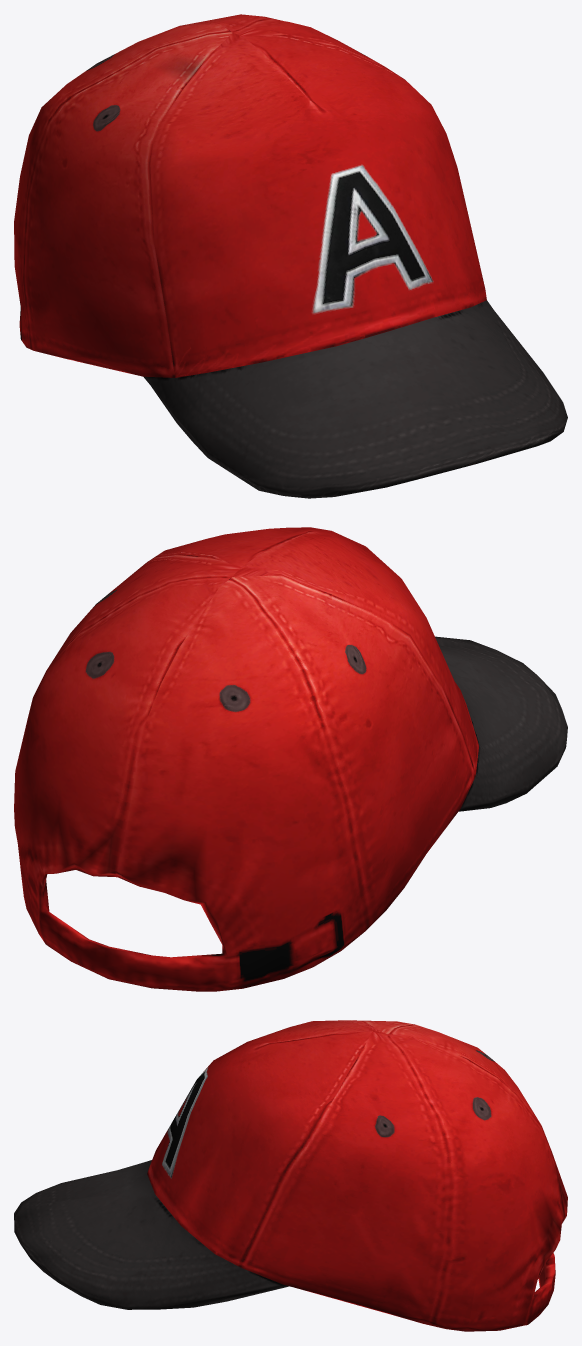
Rendered from Hat 7.FBX.
The picture shows the model from 3 angles, top to bottom: view 1: azimuth 30°, elevation 25°; view 2: azimuth 150°, elevation 25°; view 3: azimuth 270°, elevation 25°; orthographic projection. The views are drawn at different scales.
Visible parts, largest first — view 1: hat 7; view 2: hat 7; view 3: hat 7.
Part boxes in pixels (bbox=[...]): hat 7: bbox=[14, 14, 567, 498]; hat 7: bbox=[14, 527, 567, 991]; hat 7: bbox=[14, 1020, 567, 1331].
Size of the model in its own units: 16.79 by 15.59 by 29.8.
1 material, 1 textured.
